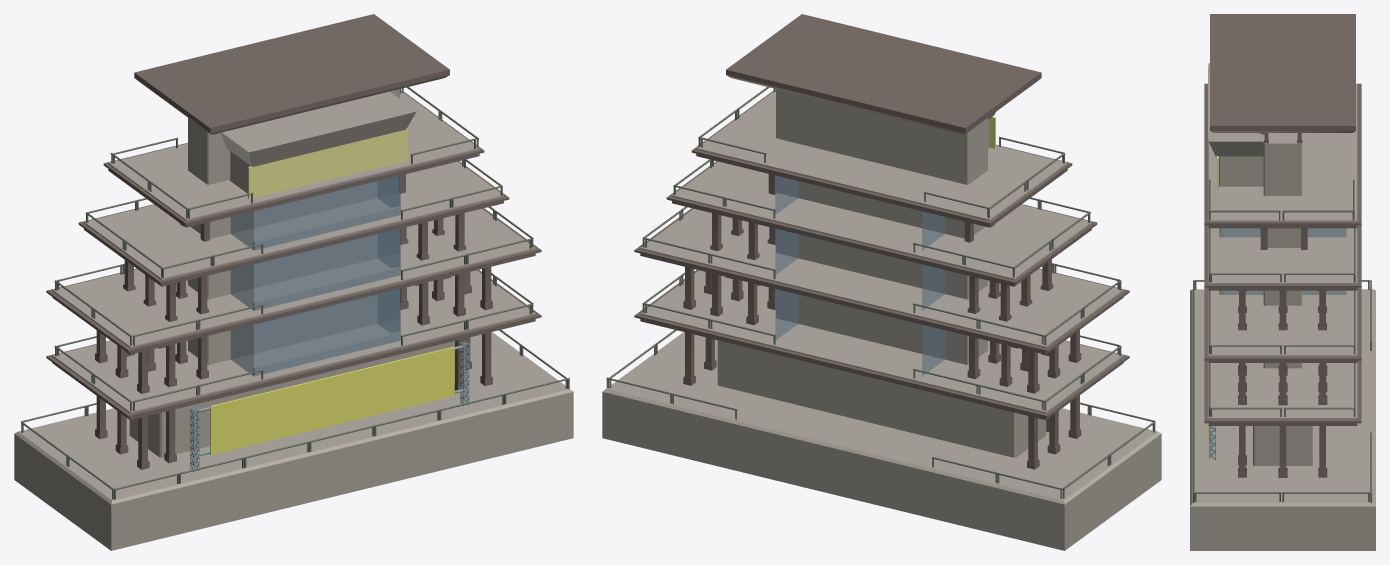
The model's file is MOD_ControlTower.fbx.
3 views of the same model, side by side, from view 1: azimuth 30°, elevation 25°; view 2: azimuth 150°, elevation 25°; view 3: azimuth 270°, elevation 25° (orthographic). The views are drawn at different scales.
Visible parts, largest first — view 1: MOD_ControlTower_LOD0; view 2: MOD_ControlTower_LOD0; view 3: MOD_ControlTower_LOD0.
Part boxes in pixels (x1,y1,x2,y2): MOD_ControlTower_LOD0: [14, 14, 573, 550]; MOD_ControlTower_LOD0: [602, 14, 1161, 550]; MOD_ControlTower_LOD0: [1190, 14, 1375, 550].
Size of the model in its own units: 5819 by 4671 by 2114.
